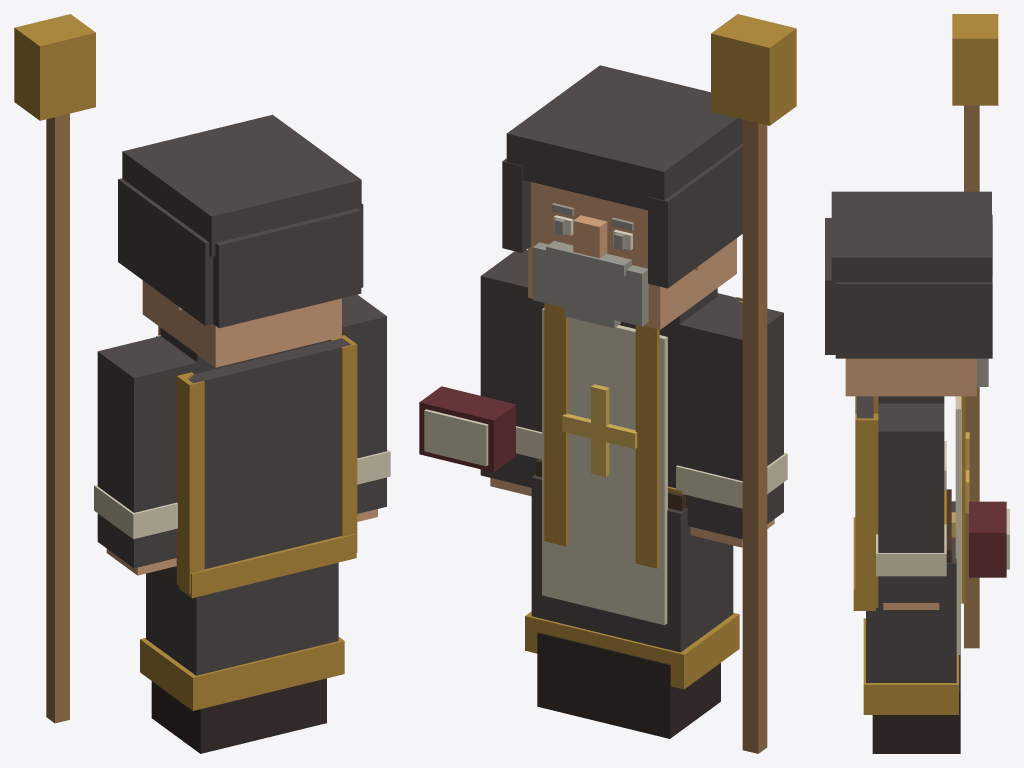
File: priest.obj
3 views of the same model, side by side, from view 1: azimuth 30°, elevation 25°; view 2: azimuth 150°, elevation 25°; view 3: azimuth 270°, elevation 25° (orthographic). The views are drawn at different scales.
Parts seen in each view (by area): view 1: equipment_back_36_back_cape, head_32_hood_top, right_arm_18_right_arm, body_24_skirt_main, equipment_right_45_staff, head_35_hood_rear, head_33_hood_left, equipment_right_46_staff_head, head_3_head, body_25_skirt_hem, left_arm_19_left_arm, equipment_back_37_cape_left_edge (+7 smaller); view 2: body_40_surplice, head_32_hood_top, equipment_right_45_staff, right_arm_18_right_arm, body_24_skirt_main, left_arm_19_left_arm, head_33_hood_left, equipment_right_46_staff_head, head_3_head, right_leg_28_right_boot, body_41_stole_left, body_42_stole_right (+13 smaller); view 3: head_32_hood_top, head_34_hood_right, left_arm_19_left_arm, body_24_skirt_main, head_3_head, equipment_back_38_cape_right_edge, equipment_right_46_staff_head, equipment_right_45_staff, left_leg_29_left_boot, body_25_skirt_hem, equipment_left_47_book, left_arm_22_cuff (+9 smaller).
Boxes of the visible parts, bbox=[...] form: equipment_back_36_back_cape: bbox=[188, 338, 351, 569]; head_32_hood_top: bbox=[122, 114, 361, 256]; right_arm_18_right_arm: bbox=[97, 336, 197, 568]; body_24_skirt_main: bbox=[146, 562, 338, 675]; equipment_right_45_staff: bbox=[46, 113, 69, 723]; head_35_hood_rear: bbox=[213, 208, 361, 328]; head_33_hood_left: bbox=[118, 178, 213, 325]; equipment_right_46_staff_head: bbox=[14, 14, 95, 120]; head_3_head: bbox=[142, 280, 341, 367]; body_25_skirt_hem: bbox=[140, 637, 344, 710]; left_arm_19_left_arm: bbox=[324, 294, 386, 513]; equipment_back_37_cape_left_edge: bbox=[176, 372, 204, 593]; body_40_surplice: bbox=[542, 308, 667, 625]; head_32_hood_top: bbox=[506, 65, 742, 210]; equipment_right_45_staff: bbox=[742, 119, 767, 753]; right_arm_18_right_arm: bbox=[679, 296, 783, 539]; body_24_skirt_main: bbox=[531, 474, 733, 652]; left_arm_19_left_arm: bbox=[480, 250, 544, 487]; head_33_hood_left: bbox=[648, 143, 742, 288]; equipment_right_46_staff_head: bbox=[711, 14, 796, 125]; head_3_head: bbox=[528, 182, 736, 329]; right_leg_28_right_boot: bbox=[603, 648, 720, 738]; body_41_stole_left: bbox=[635, 325, 659, 568]; body_42_stole_right: bbox=[544, 303, 568, 546]; head_32_hood_top: bbox=[831, 191, 991, 294]; head_34_hood_right: bbox=[835, 275, 992, 358]; left_arm_19_left_arm: bbox=[878, 403, 944, 602]; body_24_skirt_main: bbox=[866, 501, 956, 682]; head_3_head: bbox=[845, 358, 976, 396]; equipment_back_38_cape_right_edge: bbox=[855, 413, 878, 607]; equipment_right_46_staff_head: bbox=[952, 14, 998, 105]; equipment_right_45_staff: bbox=[964, 105, 979, 648]; left_leg_29_left_boot: bbox=[872, 663, 960, 753]; body_25_skirt_hem: bbox=[863, 618, 958, 714]; equipment_left_47_book: bbox=[969, 501, 1006, 577]; left_arm_22_cuff: bbox=[876, 524, 946, 576].
Size of the model in its own units: 1.3 by 2.66 by 0.7031.
